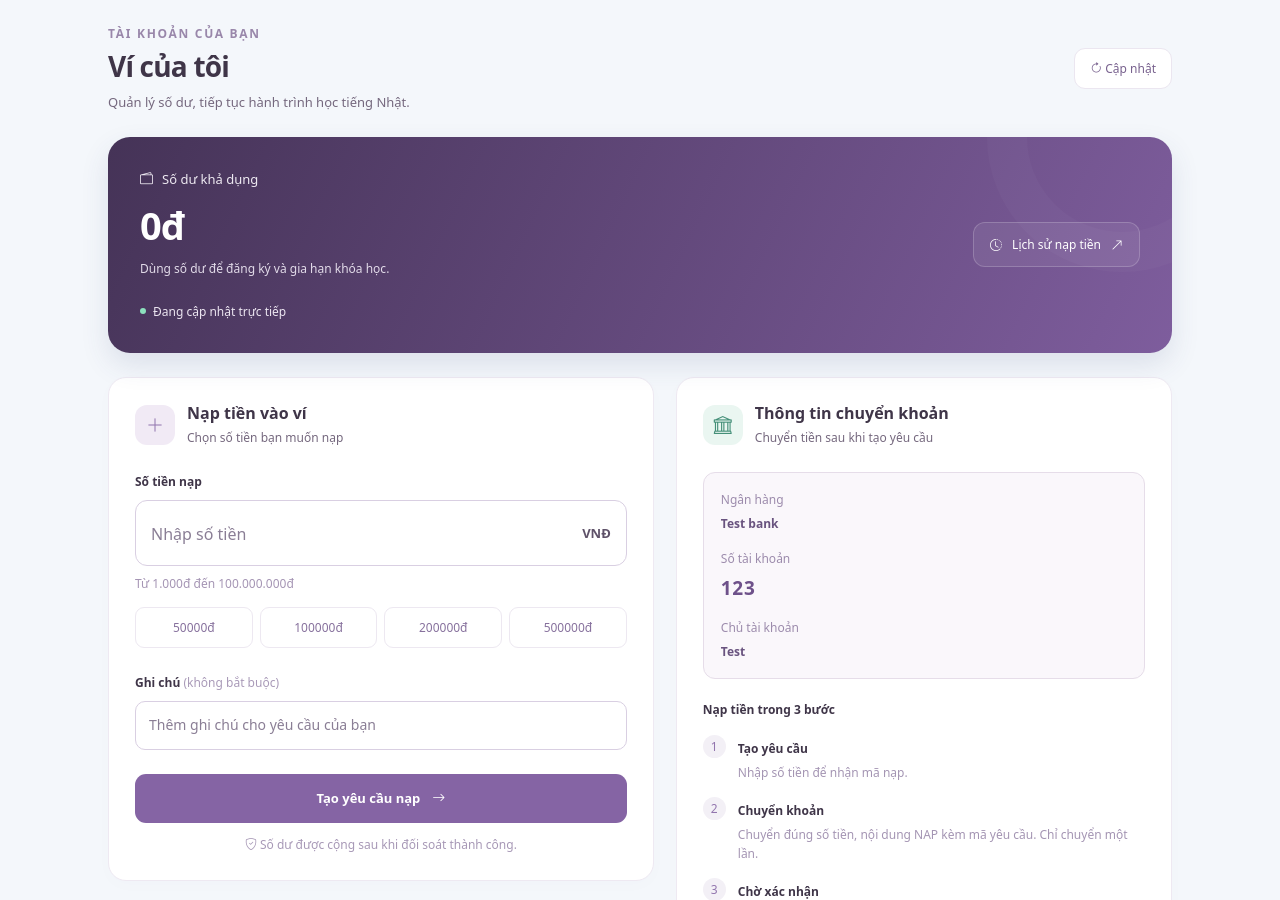
Test case: wallet realtime outcomes › does not lose a notice received while deposit submission is in flight
The image size is (1280, 900).
In the number field with id "amount": [381, 533] box left=135, top=500, right=627, bottom=566, type "10000"
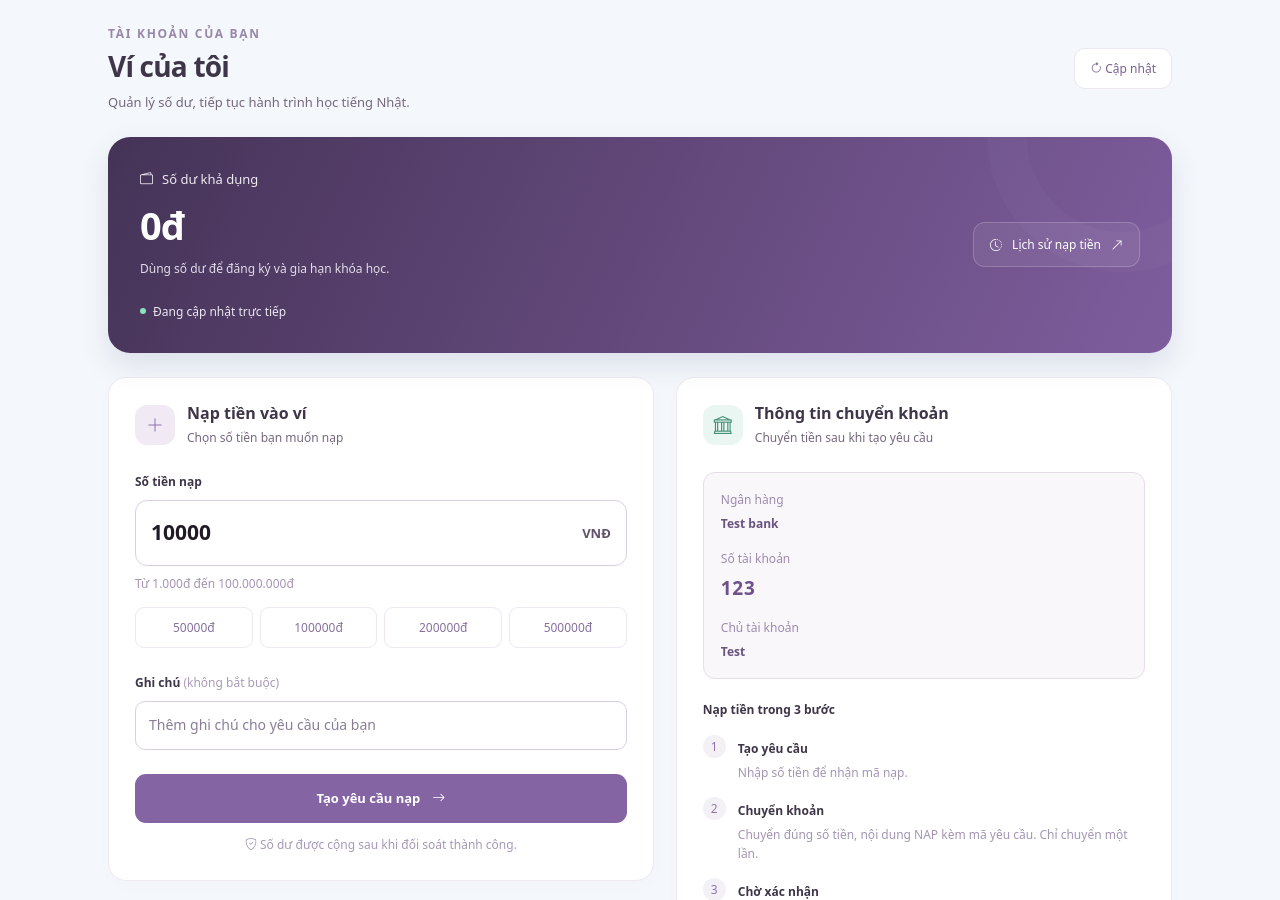
Submit the form, box left=135, top=472, right=627, bottom=854
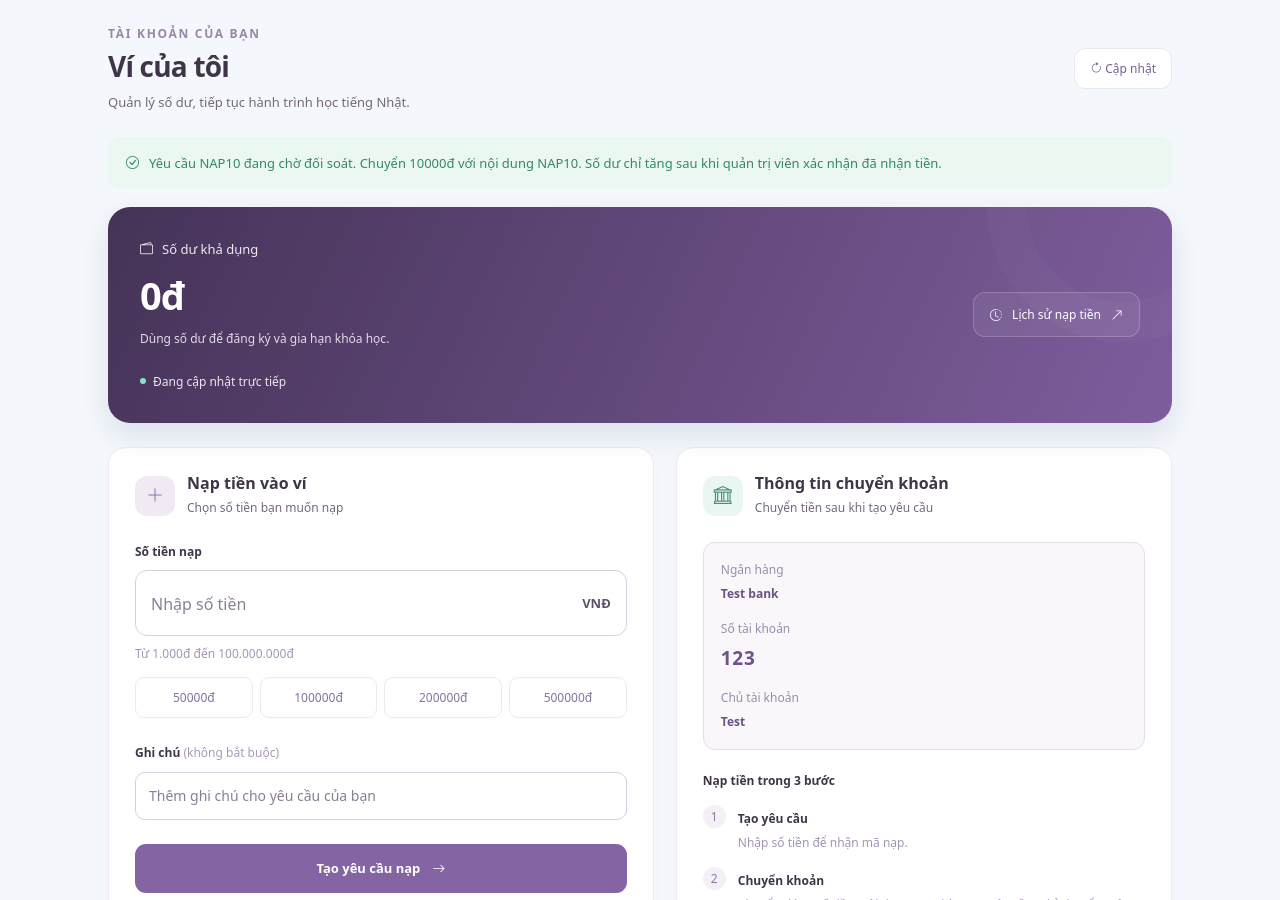
Click the button with class "history-toggle": [1057, 315] box left=973, top=292, right=1140, bottom=337
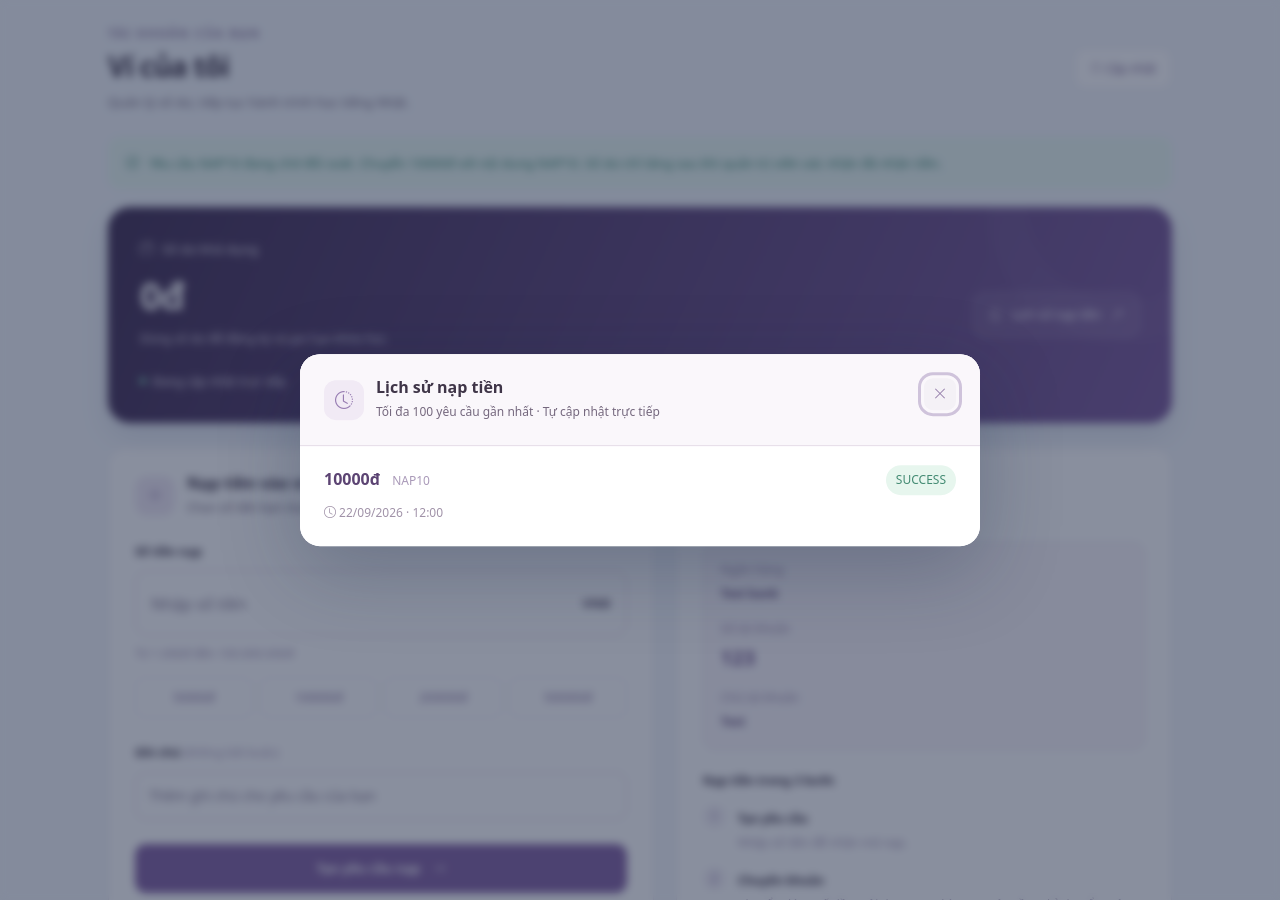
expect the text "SUCCESS" is shown: met, box left=886, top=466, right=956, bottom=495
